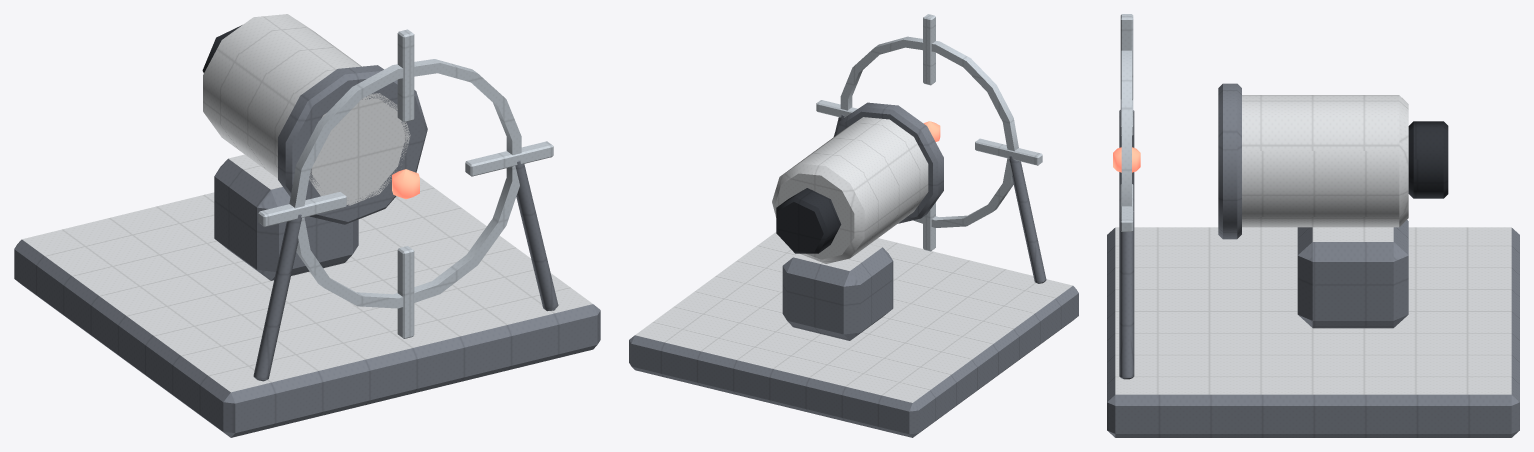
Rendered from R4X_WeakPointScanner_LOD1.glb.
3 views of the same model, side by side, from view 1: azimuth 30°, elevation 25°; view 2: azimuth 150°, elevation 25°; view 3: azimuth 270°, elevation 25° (orthographic). The views are drawn at different scales.
Visible parts, largest first — view 1: R4X_WeakPointScanner_LOD1; view 2: R4X_WeakPointScanner_LOD1; view 3: R4X_WeakPointScanner_LOD1.
Part boxes in pixels (x1=…): R4X_WeakPointScanner_LOD1: x1=14, y1=14, x2=600, y2=437; R4X_WeakPointScanner_LOD1: x1=629, y1=14, x2=1078, y2=437; R4X_WeakPointScanner_LOD1: x1=1107, y1=14, x2=1519, y2=437.
Bounding box in the file's own units: 0.52 × 0.47 × 0.52.
5 materials, 4 textured.
